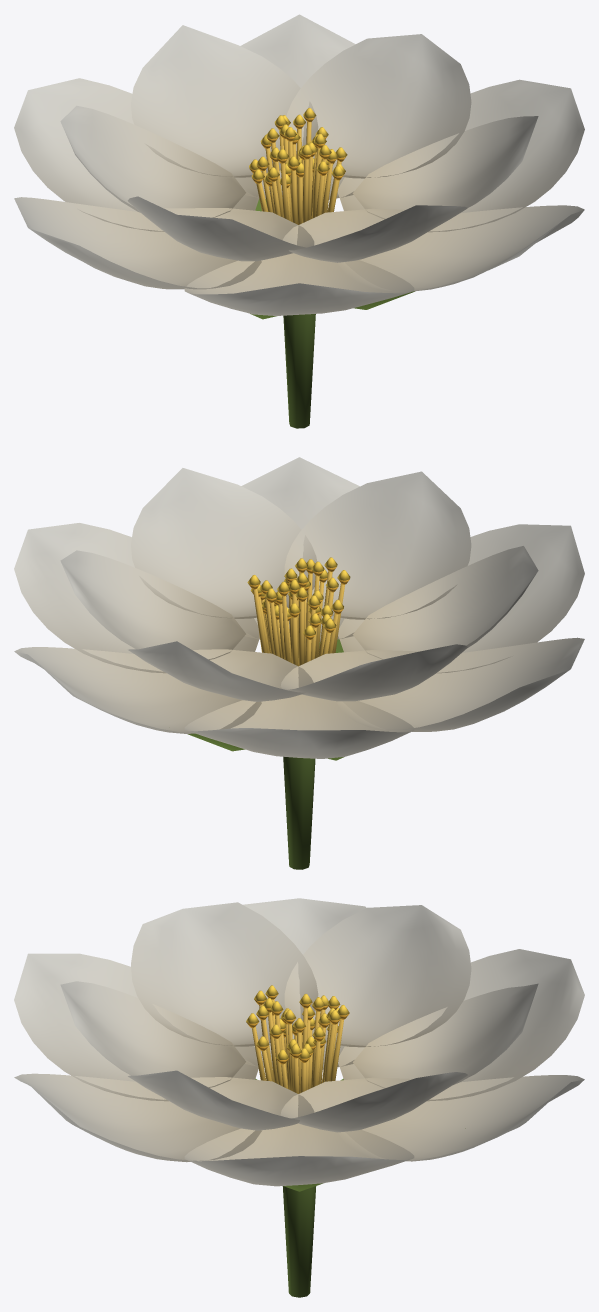
File: camellia-blossoms.glb
3 views of the same model, one above another, from view 1: azimuth 30°, elevation 25°; view 2: azimuth 150°, elevation 25°; view 3: azimuth 270°, elevation 25° (orthographic).
Visible parts, largest first — view 1: Camellia | layered ivory petals, Camellia | golden stamen cluster, Camellia | calyx and pedicel; view 2: Camellia | layered ivory petals, Camellia | golden stamen cluster, Camellia | calyx and pedicel; view 3: Camellia | layered ivory petals, Camellia | golden stamen cluster, Camellia | calyx and pedicel.
Boxes of the visible parts, bbox=[...] form: Camellia | layered ivory petals: bbox=[14, 14, 584, 315]; Camellia | golden stamen cluster: bbox=[249, 108, 347, 224]; Camellia | calyx and pedicel: bbox=[250, 198, 414, 428]; Camellia | layered ivory petals: bbox=[14, 457, 584, 758]; Camellia | golden stamen cluster: bbox=[247, 557, 350, 666]; Camellia | calyx and pedicel: bbox=[187, 639, 343, 869]; Camellia | layered ivory petals: bbox=[14, 898, 584, 1186]; Camellia | golden stamen cluster: bbox=[246, 985, 349, 1093]; Camellia | calyx and pedicel: bbox=[255, 1078, 465, 1297].
Size of the model in its own units: 0.118 by 0.0646 by 0.1075.
